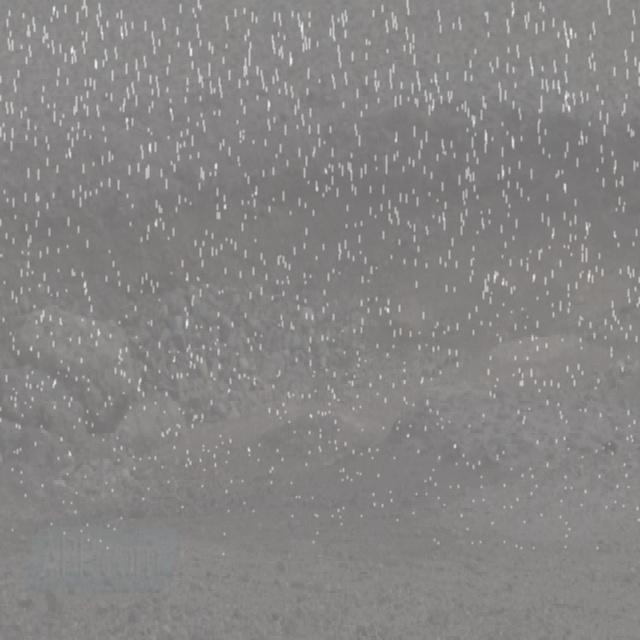Pothole: (1, 116, 640, 591)
